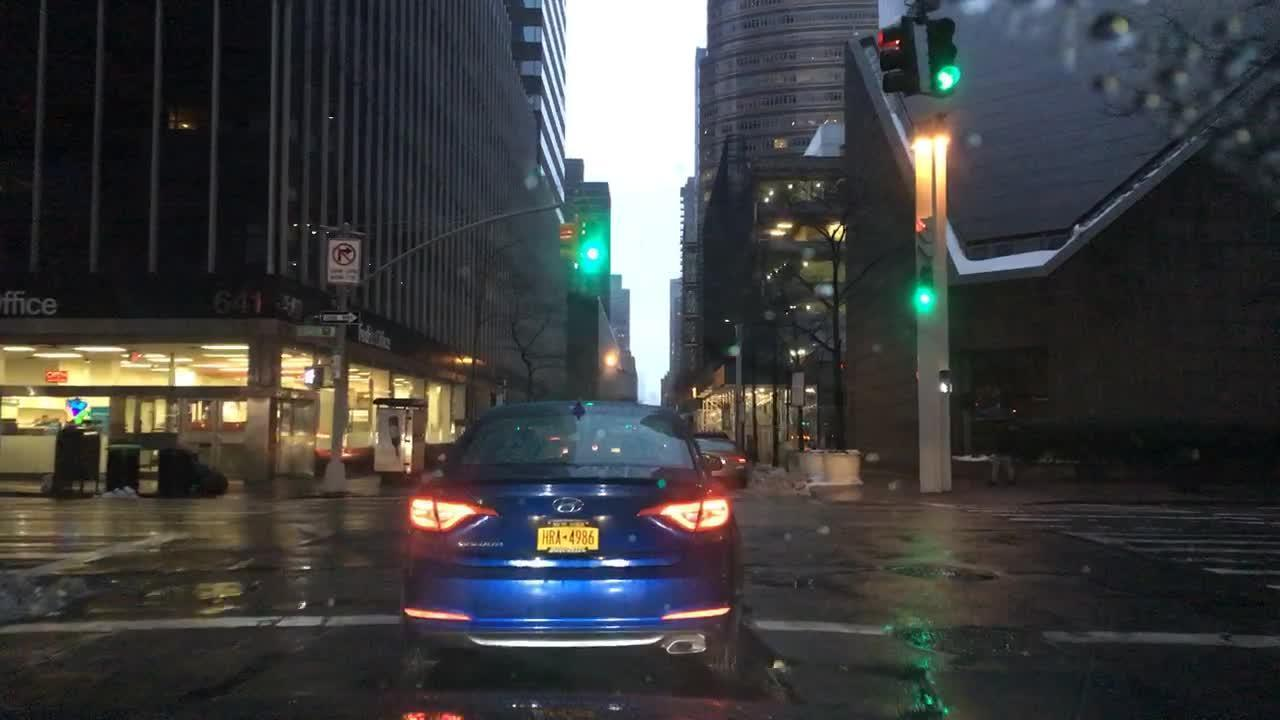Hyundai: (546, 490, 590, 521)
